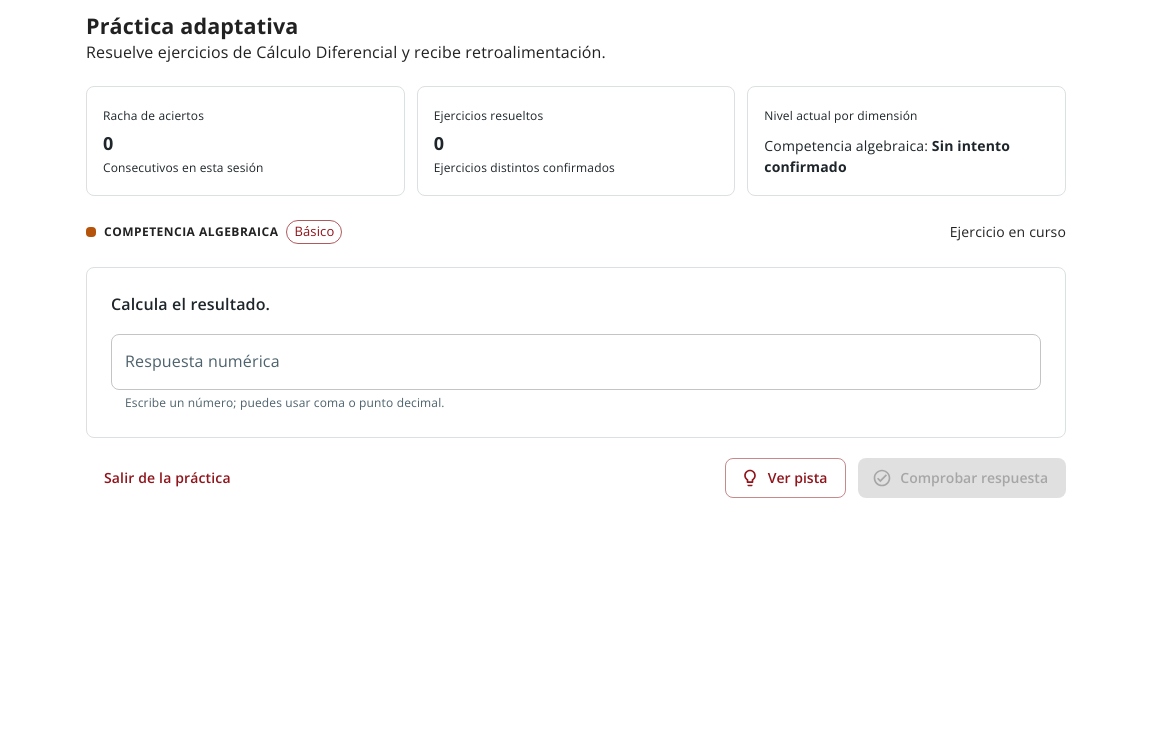
Test: PracticaPage › valida una entrada numérica y solo envía valores numéricos válidos
This screenshot has width=1152, height=732.
Expected: the heading "Calcula el resultado." is shown, [111,294,270,316]
Expected: the button "Comprobar respuesta" is disabled, [858,458,1066,498]
Type "no es número" into the field labelled "Respuesta numérica". click: {"x": 576, "y": 362}
box: [111,334,1041,390]
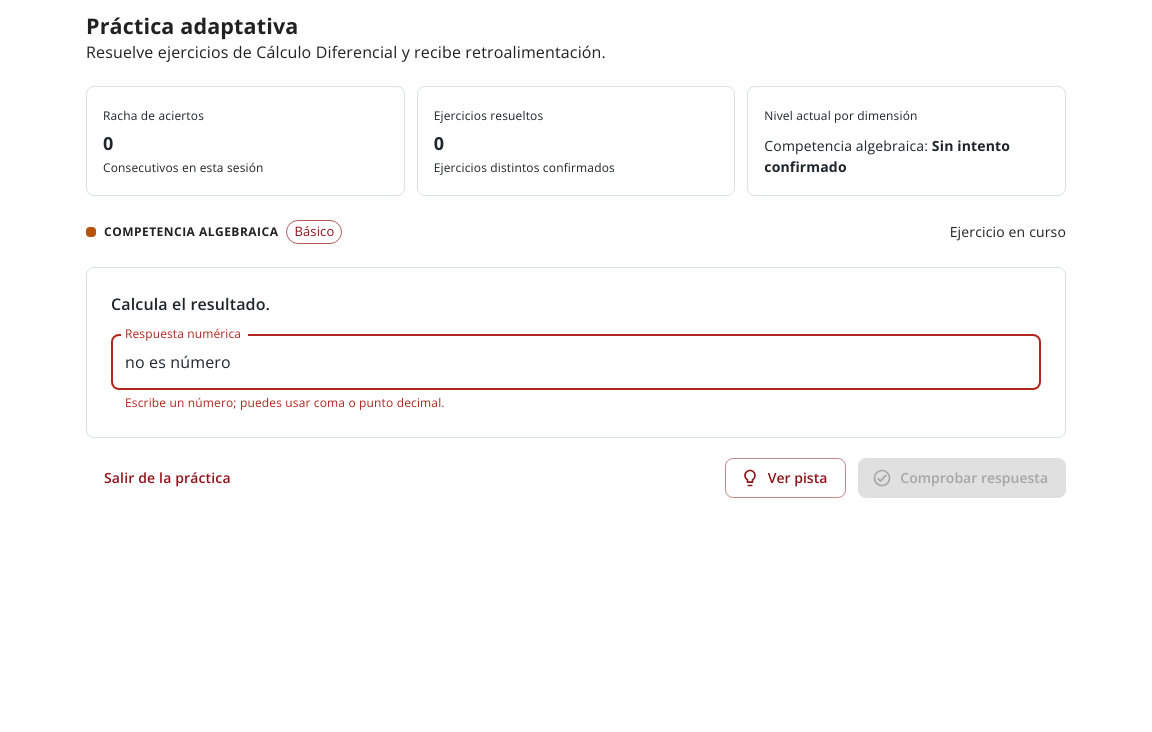
Expected: the button "Comprobar respuesta" is disabled, [858,458,1066,498]
Replace the text in the field labelled "Respuesta numérica" with "2,5". click: {"x": 576, "y": 362}
box: [111,334,1041,390]
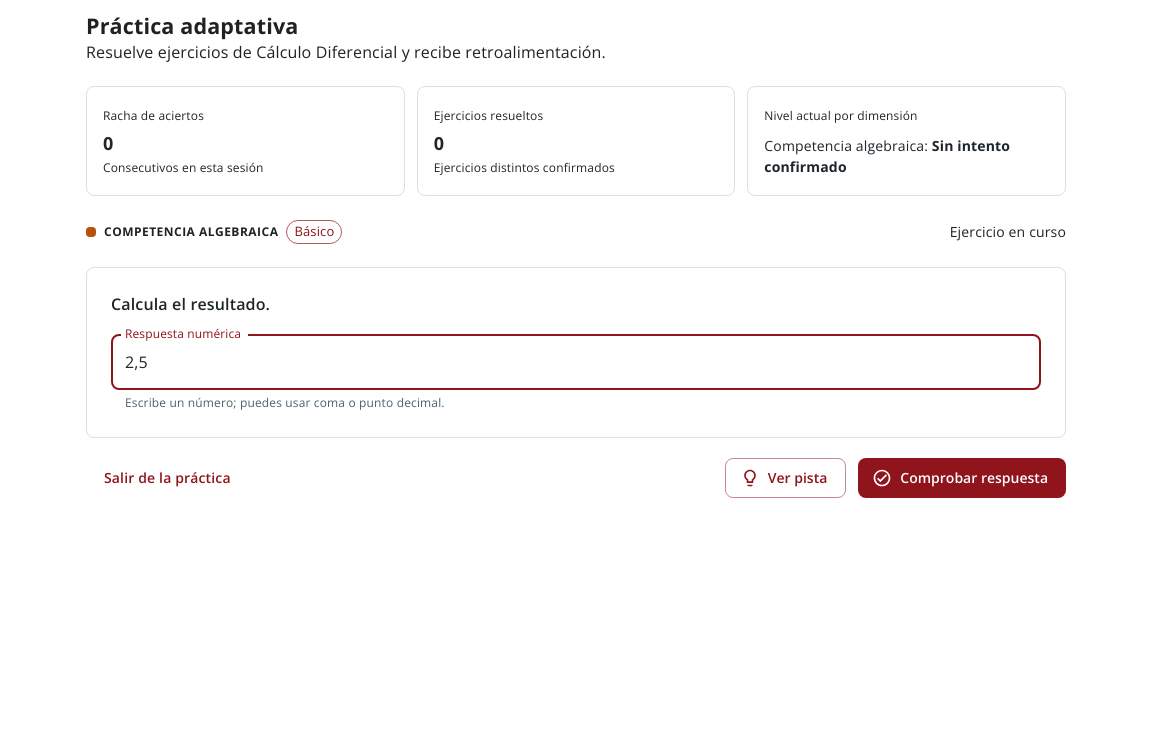
Expected: the button "Comprobar respuesta" is enabled
Click the button "Comprobar respuesta". click: {"x": 962, "y": 478}
box: [858,458,1066,498]
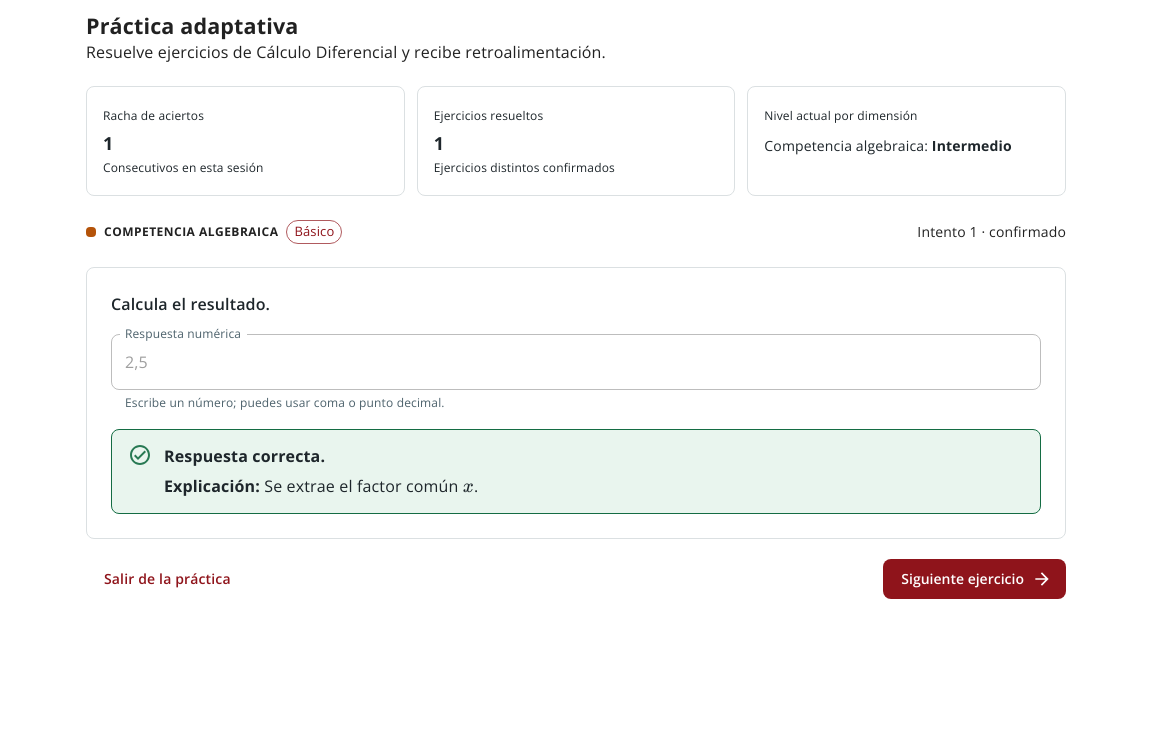
Expected: the text "Respuesta correcta." is shown, [164,445,325,467]
